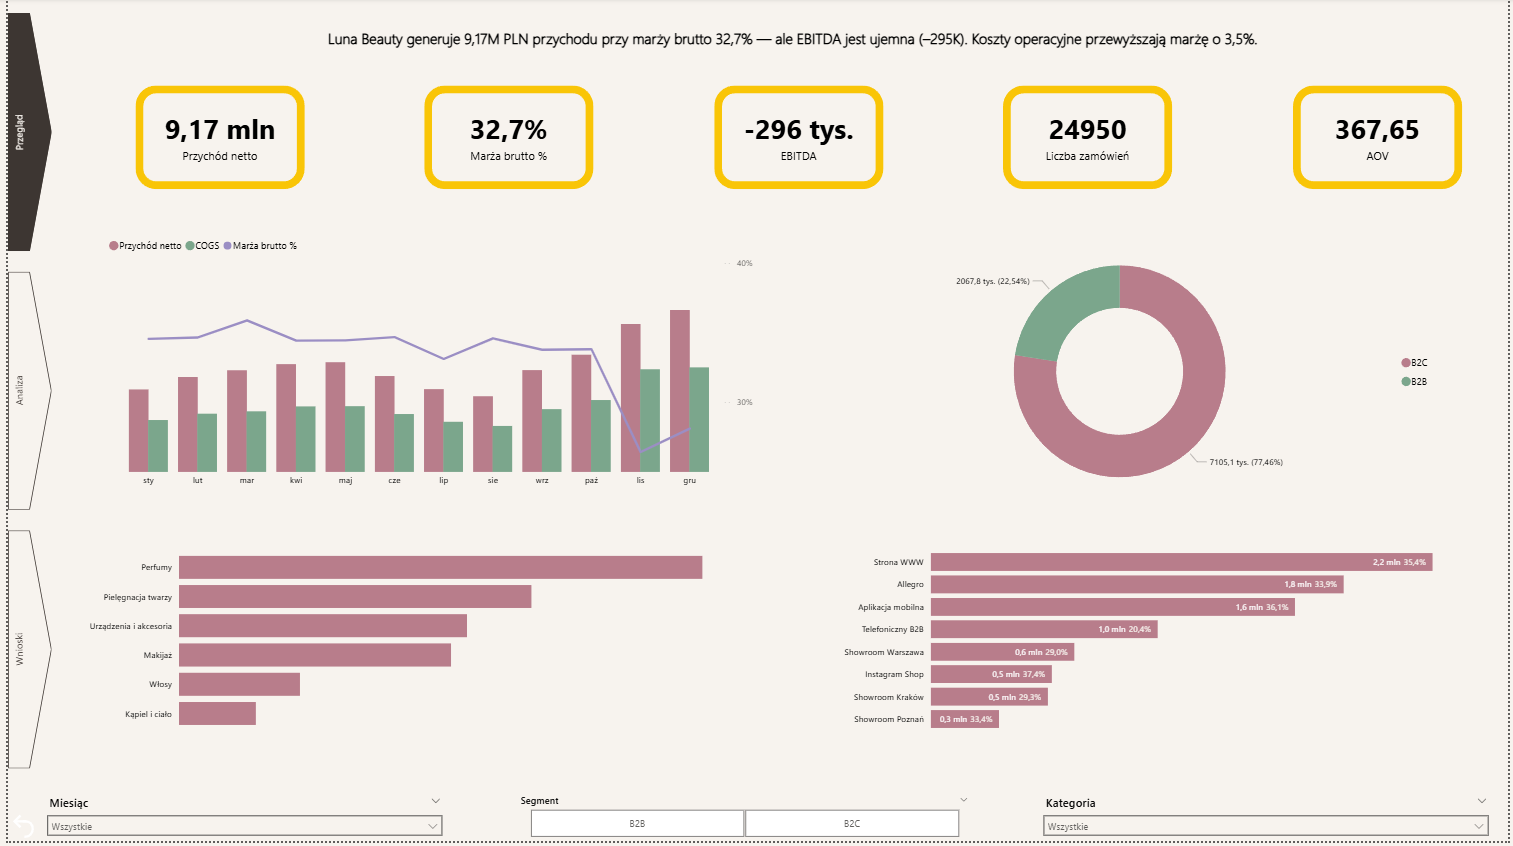

The dashboard page shown, as its layout file describes it:
{"tool":"powerbi","page":{"name":"Przegląd","canvas":[1920,1080],"ordinal":0},"visuals":[{"type":"card","fields":{"Values":["mMiary.Przychód netto"]},"box":[140.5,111,261.8,132.7],"z":0,"group":"g1"},{"type":"card","fields":{"Values":["mMiary.Marża brutto %"]},"box":[510.8,111,261.8,132.7],"z":0,"group":"g2"},{"type":"card","fields":{"Values":["mMiary.EBITDA"]},"box":[881.3,111,261.8,132.7],"z":0,"group":"g3"},{"type":"card","fields":{"Values":["mMiary.Liczba zamówień"]},"box":[1251.8,111,261.8,132.7],"z":0,"group":"g4"},{"type":"card","fields":{"Values":["mMiary.AOV"]},"box":[1622.3,111,261.8,132.7],"z":0,"group":"g5"},{"type":"lineClusteredColumnComboChart","fields":{"Y":["mMiary.Przychód netto","mMiary.COGS"],"Y2":["mMiary.Marża brutto %"],"Category":["DimDate.MiesiącSkrót"]},"box":[125.2,298.4,834.8,338.1],"z":0},{"type":"shape","box":[163,112.1,216.7,132.7],"z":1000,"group":"g1"},{"type":"shape","box":[533.3,112.1,216.7,132.7],"z":1000,"group":"g2"},{"type":"shape","box":[903.8,112.1,216.7,132.7],"z":1000,"group":"g3"},{"type":"shape","box":[1274.3,112.1,216.7,132.7],"z":1000,"group":"g4"},{"type":"shape","box":[1644.8,112.1,216.7,132.7],"z":1000,"group":"g5"},{"type":"card","fields":{"Values":["mMiary.Headline"]},"box":[102.3,0,1805.2,108.5],"z":2000},{"type":"group","id":"g1","title":"KPI1","box":[140.5,111,261.8,133.8],"z":3000},{"type":"pageNavigator","box":[0,20,56,968],"z":4000},{"type":"actionButton","box":[0,1040,40,40],"z":5000},{"type":"group","id":"g2","title":"KPI1","box":[510.8,111,262,133.2],"z":6000},{"type":"group","id":"g3","title":"KPI1","box":[881.3,111,262,134.3],"z":7000},{"type":"group","id":"g4","title":"KPI1","box":[1251.8,111,262,134.3],"z":8000},{"type":"group","id":"g5","title":"KPI1","box":[1622.3,111,262,134],"z":9000},{"type":"donutChart","fields":{"Y":["mMiary.Przychód netto"],"Category":["FactCustomers.segment"]},"box":[1058.1,298.4,774.3,361],"z":10000},{"type":"clusteredBarChart","fields":{"Category":["FactProducts.category"],"Y":["mMiary.Marża brutto"]},"box":[91.8,686.6,811.8,265],"z":11000},{"type":"clusteredBarChart","fields":{"Y":["mMiary.Przychód po zwrotach"],"Category":["DimChannel.channel"]},"box":[1058.1,686.6,811.8,265],"z":12000},{"type":"slicer","fields":{"Values":["DimDate.MiesiącNazwa"]},"box":[40,1014,526,66],"z":13000},{"type":"slicer","fields":{"Values":["FactCustomers.segment"]},"box":[644,1014,598,66],"z":14000},{"type":"slicer","fields":{"Values":["FactProducts.category"]},"box":[1316,1014,590,66],"z":15000}]}

Visuals, with their boxes on the page's 1920x1080 design canvas (x1, y1, x2, y2). These are canvas units, not pixel positions in the 1513x846 screenshot, which may show the page scaled, cropped or inside an application window:
card - mMiary.Przychód netto: 140 111 402 244
card - mMiary.Marża brutto %: 511 111 773 244
card - mMiary.EBITDA: 881 111 1143 244
card - mMiary.Liczba zamówień: 1252 111 1514 244
card - mMiary.AOV: 1622 111 1884 244
lineClusteredColumnComboChart - mMiary.Przychód netto x mMiary.COGS: 125 298 960 636
shape: 163 112 380 245
shape: 533 112 750 245
shape: 904 112 1120 245
shape: 1274 112 1491 245
shape: 1645 112 1862 245
card - mMiary.Headline: 102 0 1908 108
"KPI1" group: 140 111 402 245
pageNavigator: 0 20 56 988
actionButton: 0 1040 40 1080
"KPI1" group: 511 111 773 244
"KPI1" group: 881 111 1143 245
"KPI1" group: 1252 111 1514 245
"KPI1" group: 1622 111 1884 245
donutChart - mMiary.Przychód netto x FactCustomers.segment: 1058 298 1832 659
clusteredBarChart - FactProducts.category x mMiary.Marża brutto: 92 687 904 952
clusteredBarChart - mMiary.Przychód po zwrotach x DimChannel.channel: 1058 687 1870 952
slicer - DimDate.MiesiącNazwa: 40 1014 566 1080
slicer - FactCustomers.segment: 644 1014 1242 1080
slicer - FactProducts.category: 1316 1014 1906 1080
